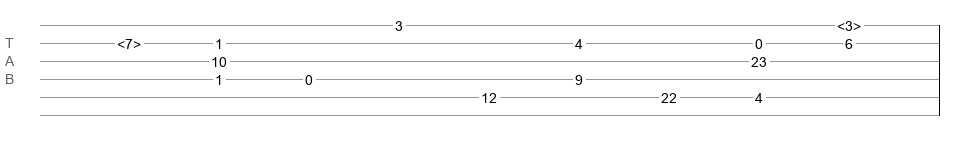0: (305, 72, 313, 82), (755, 36, 763, 46)
1: (215, 36, 223, 46), (215, 72, 223, 82)
10: (211, 54, 227, 64)
12: (481, 90, 497, 100)
22: (661, 90, 677, 100)
23: (751, 54, 767, 64)
3: (395, 18, 403, 28)
4: (575, 36, 583, 46), (755, 90, 763, 100)
6: (845, 36, 853, 46)
9: (575, 72, 583, 82)
harmonic: (117, 36, 141, 46), (837, 18, 861, 28)
